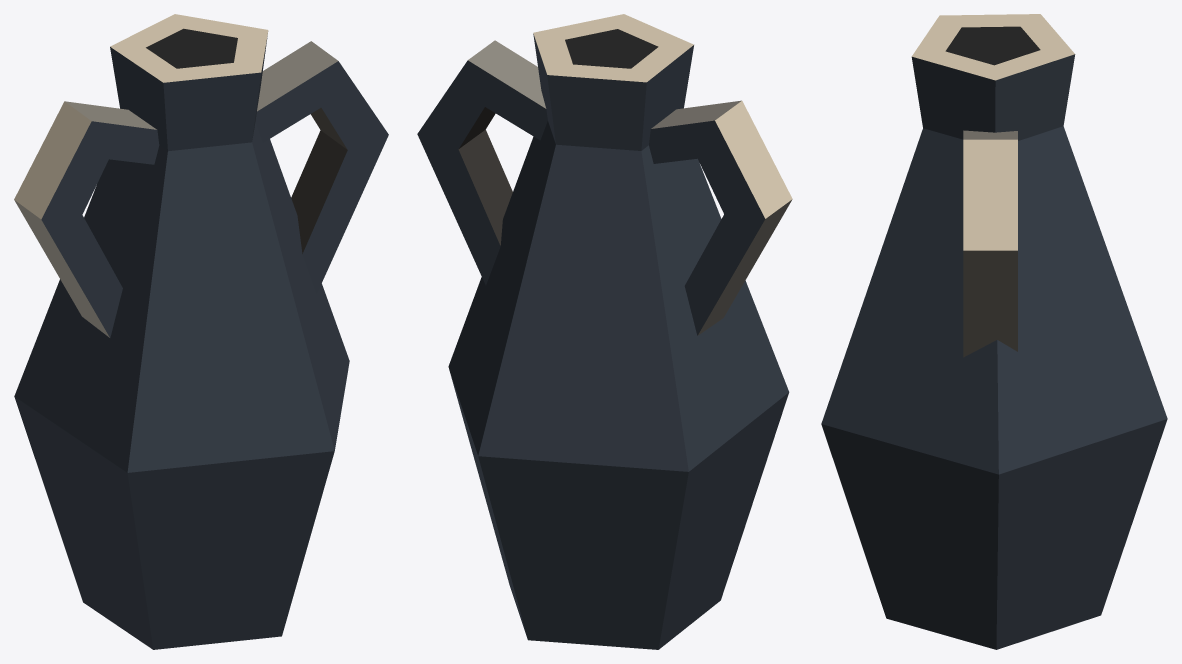
File: TB_D_Prop_Jar_O.FBX
The picture shows the model from 3 angles, left to right: view 1: azimuth 30°, elevation 25°; view 2: azimuth 150°, elevation 25°; view 3: azimuth 270°, elevation 25°; orthographic projection.
Parts seen in each view (by area): view 1: TB_D_Prop_Jar_O; view 2: TB_D_Prop_Jar_O; view 3: TB_D_Prop_Jar_O.
Boxes of the visible parts, <box> form: TB_D_Prop_Jar_O: <box>14,14,388,649</box>; TB_D_Prop_Jar_O: <box>417,14,792,649</box>; TB_D_Prop_Jar_O: <box>821,14,1167,649</box>.
Size of the model in its own units: 1.1 by 1.69 by 0.9506.
